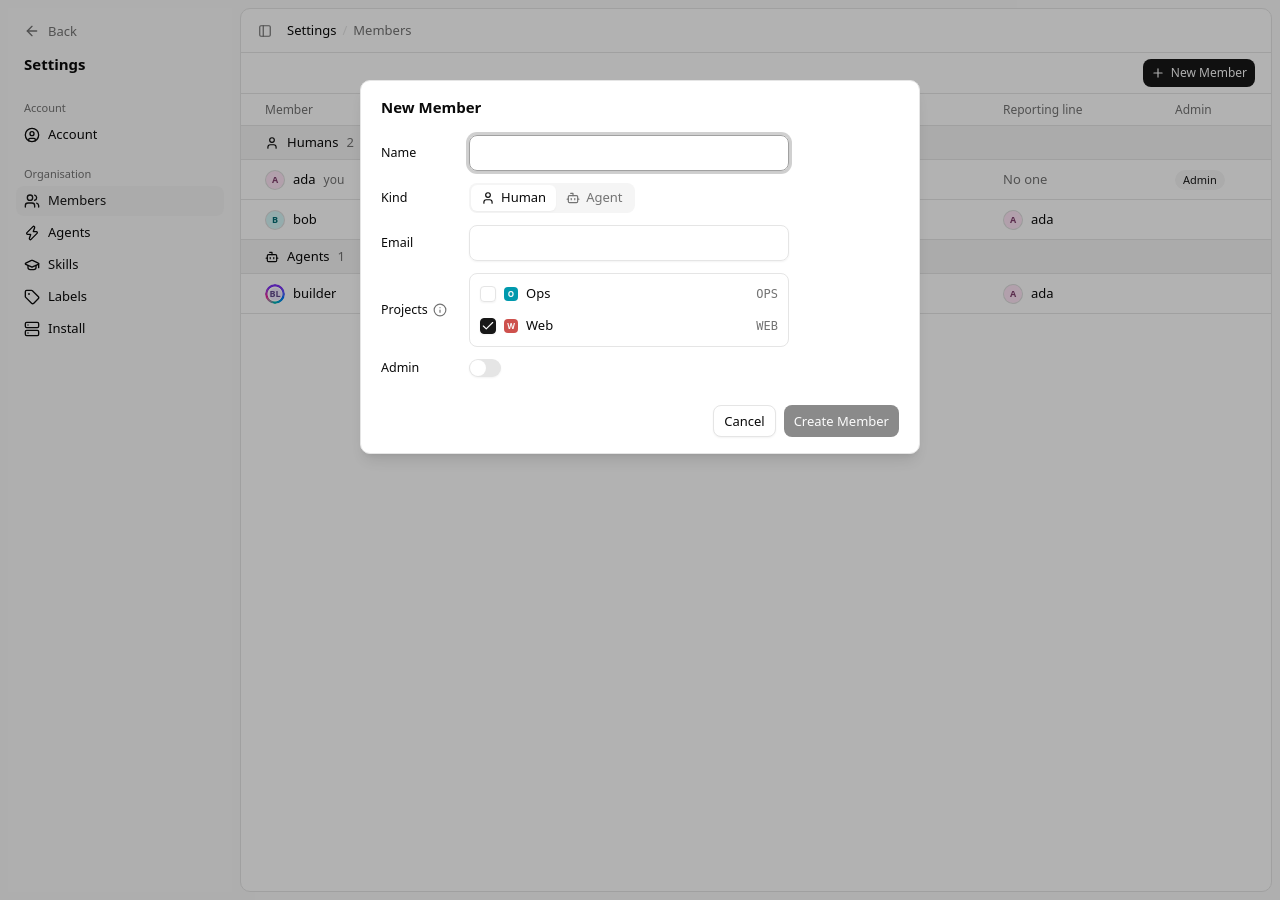
Test: Settings › Members › New Member makes a human in the Projects ticked, then offers a sign-in link
Expected: the checkbox named "Web" is checked, [480,318,496,334]
Click the checkbox named "Ops" at {"x": 488, "y": 294}, box [480,286,496,302]
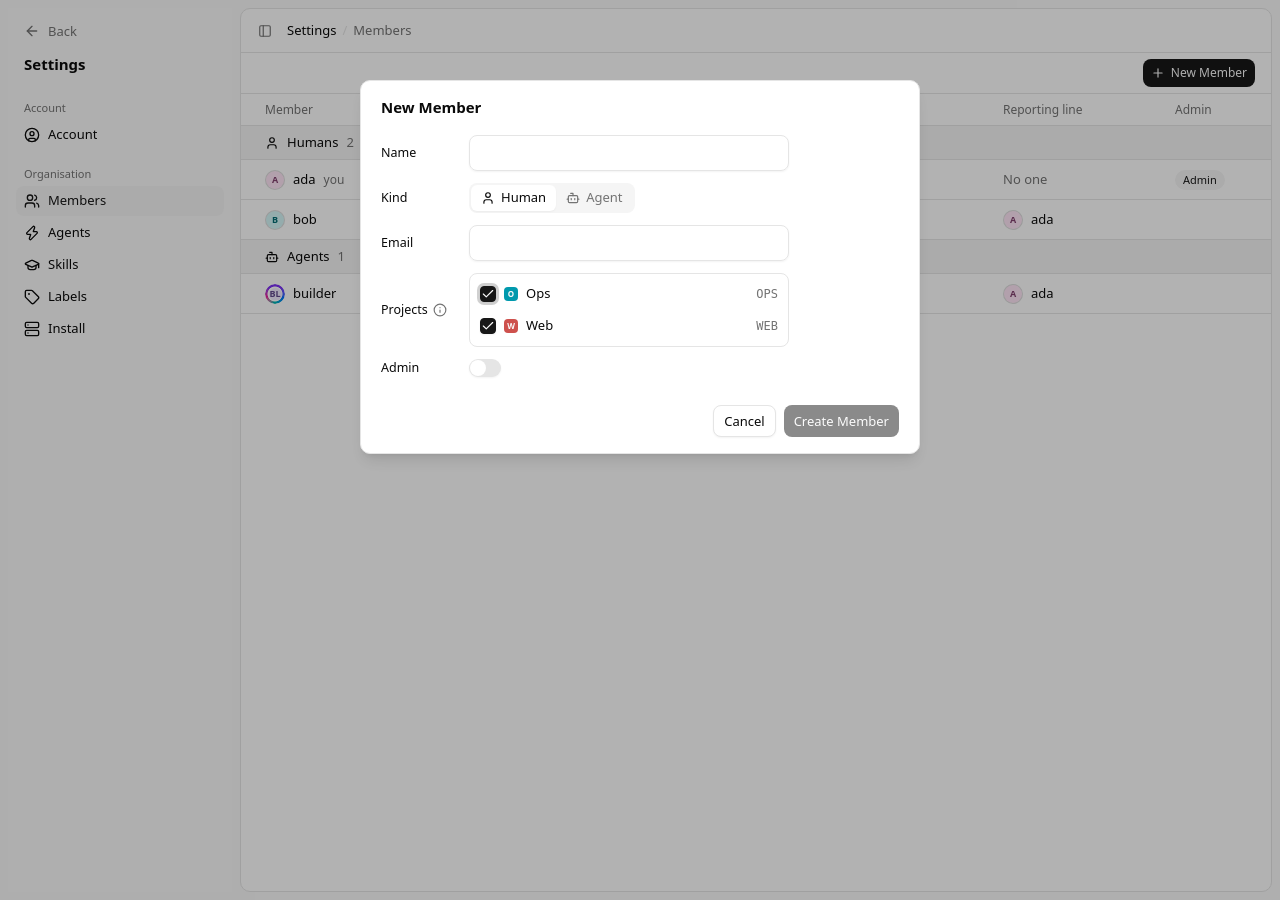
Type "cy" into the field labelled "Name" at {"x": 629, "y": 153}, box [469,135,789,171]
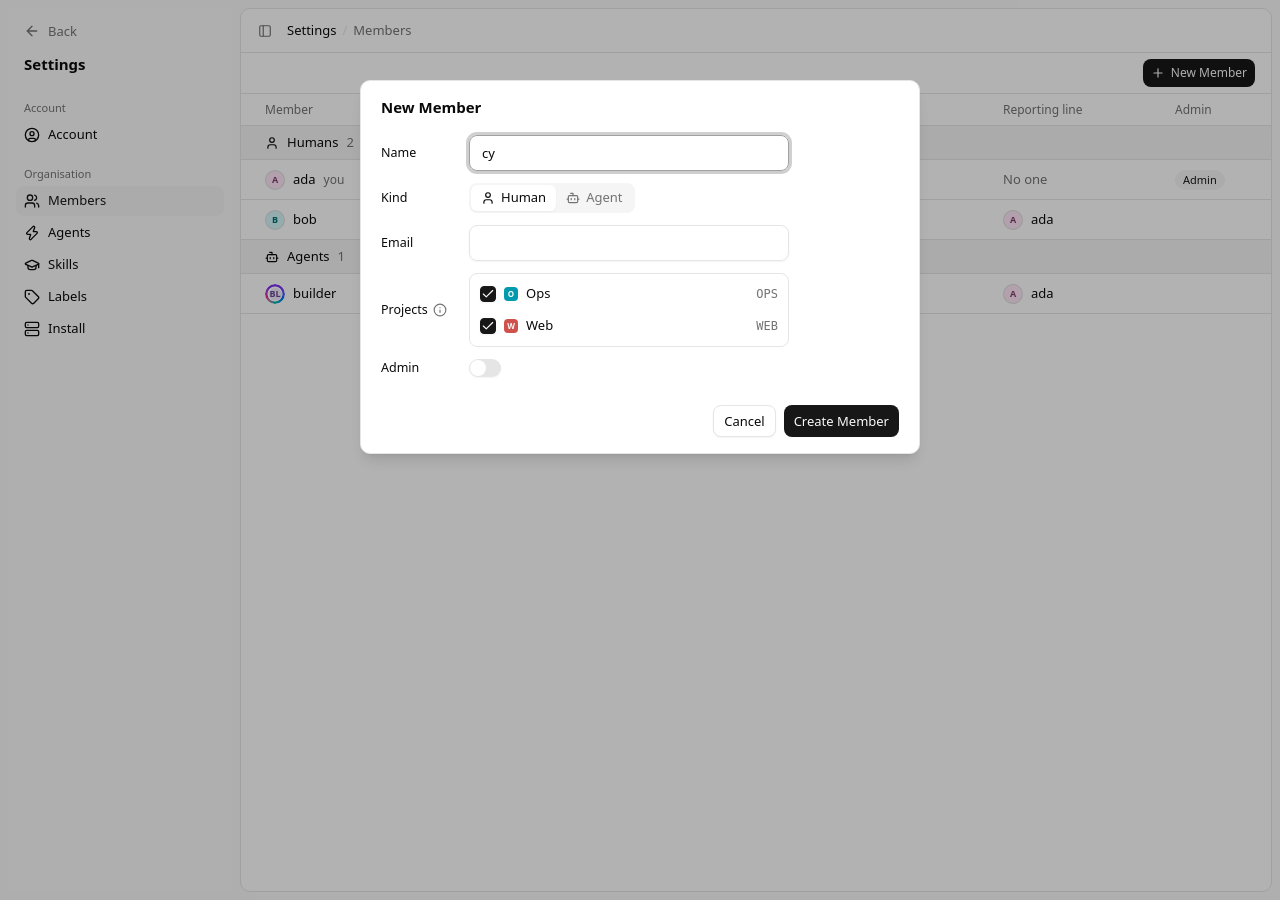
Type "cy@example.com" into the field labelled "Email" at {"x": 629, "y": 243}, box [469,225,789,261]
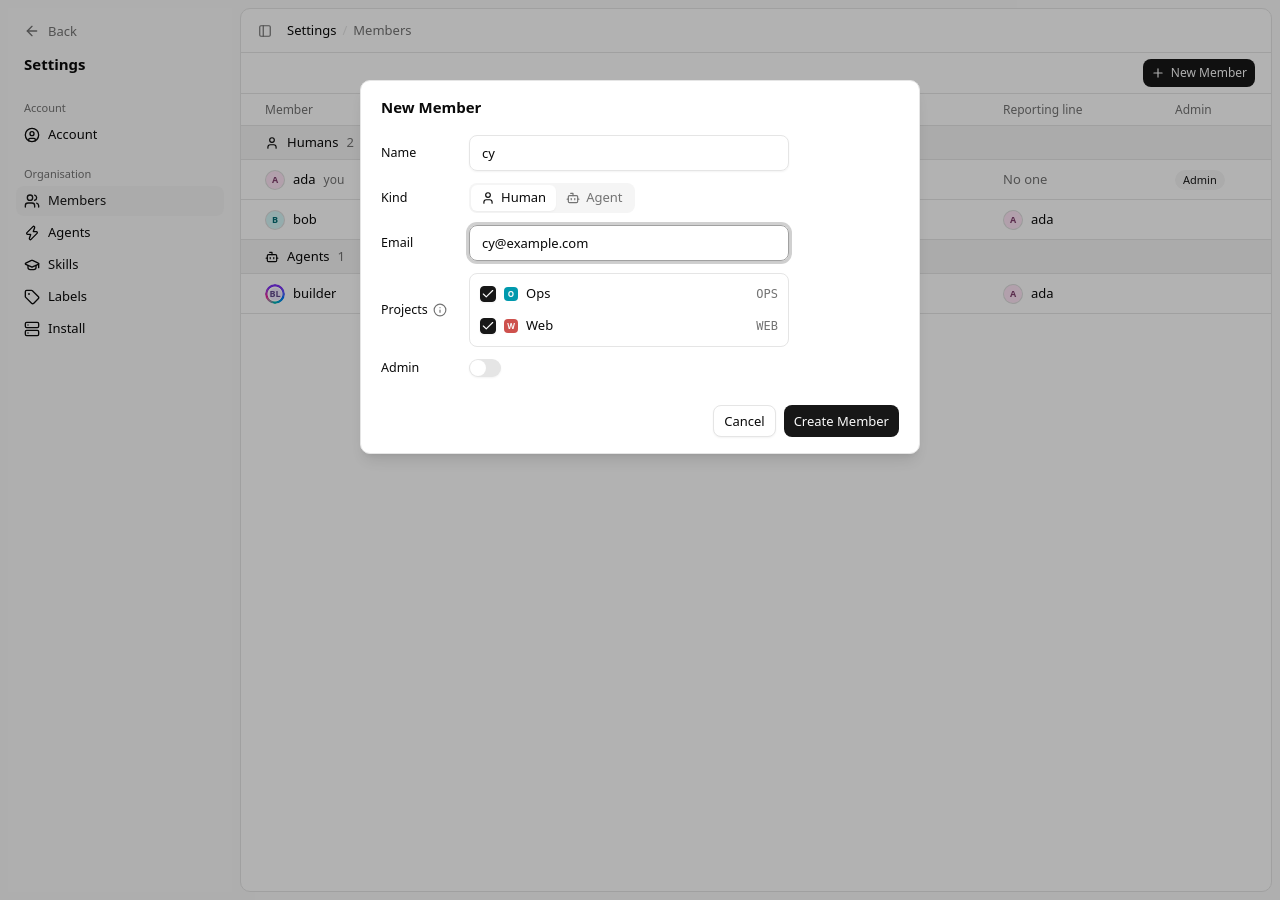
Click the button "Create Member" at {"x": 841, "y": 421}, box [784,405,899,437]
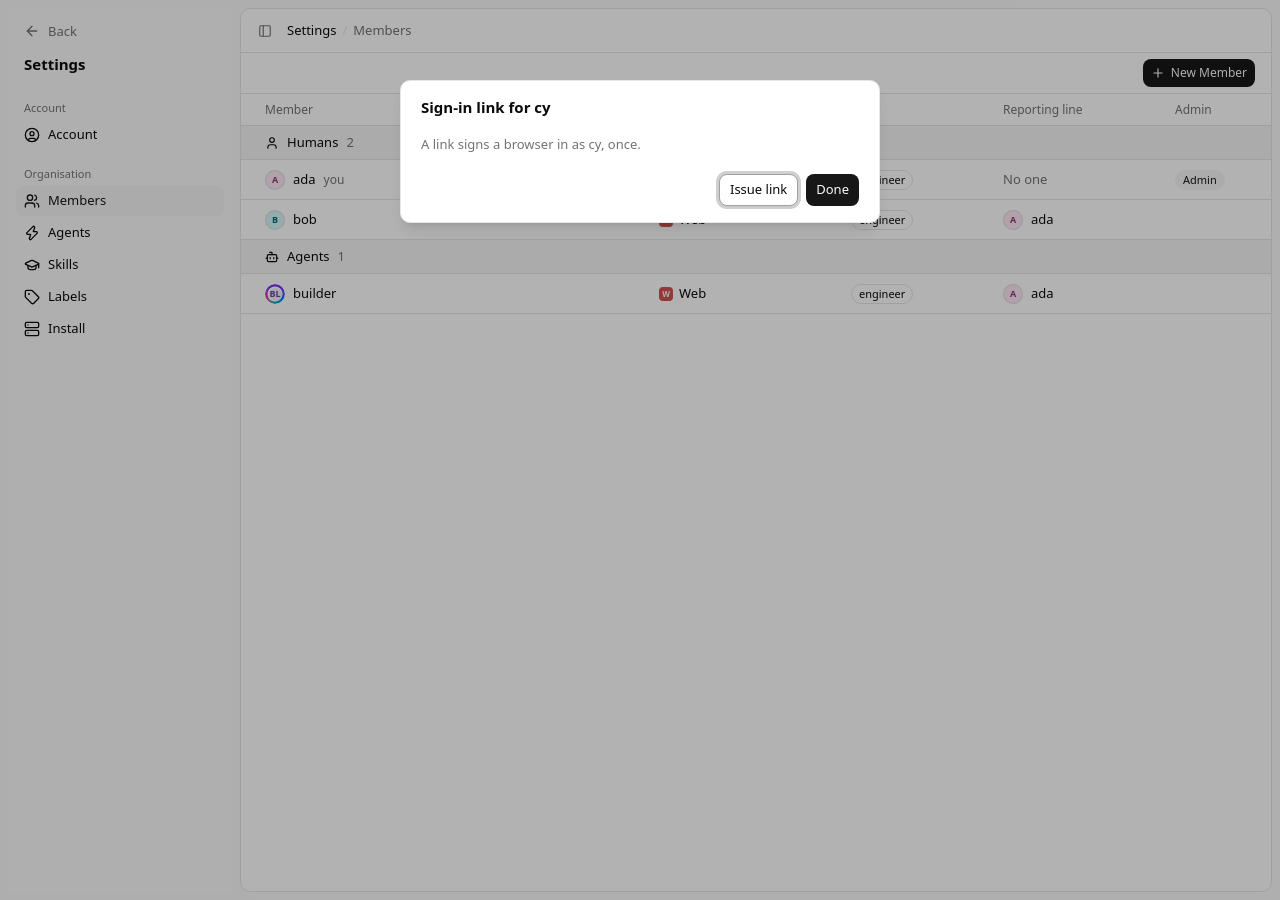
Click the button "Issue link" at {"x": 759, "y": 190}, box [719,174,798,206]
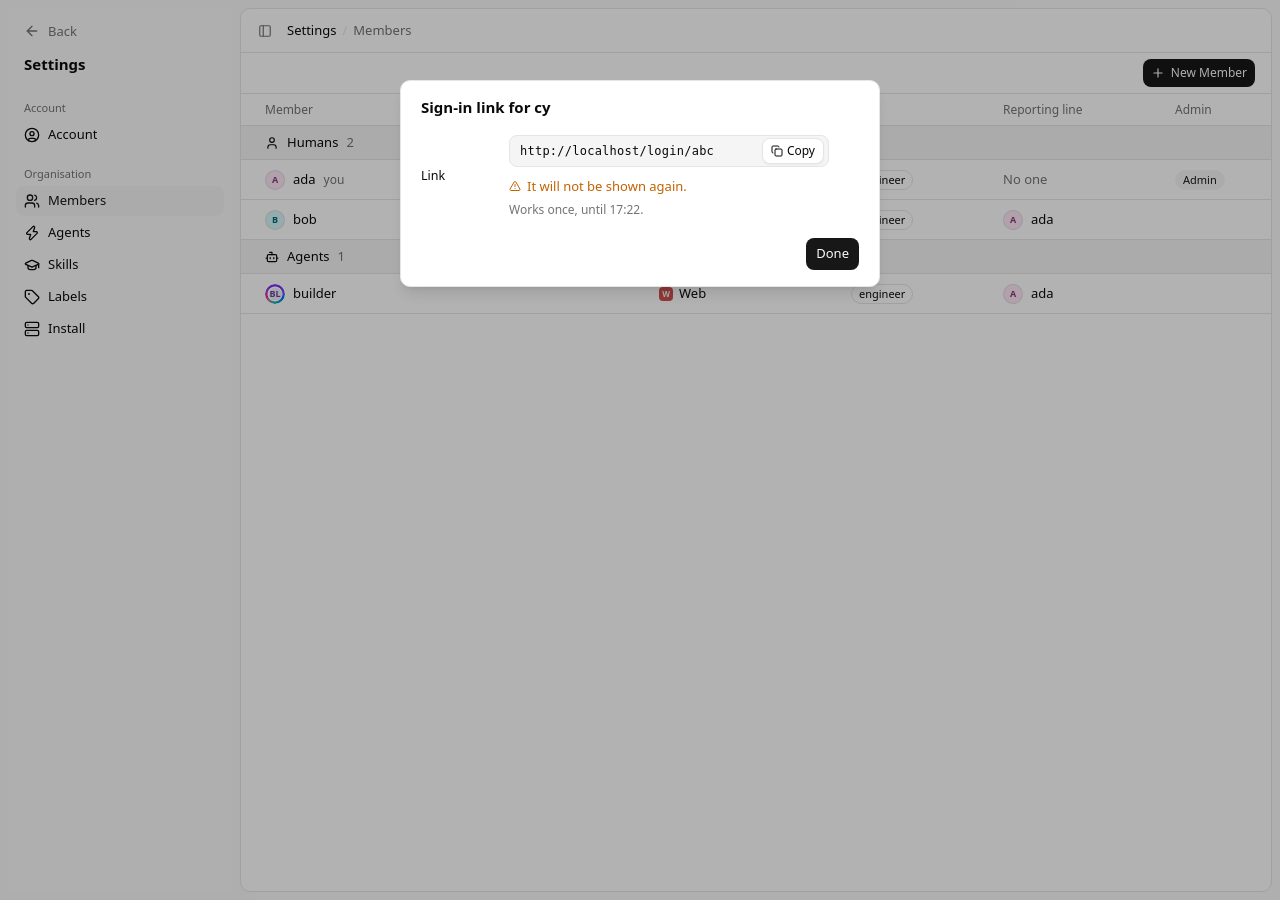
Expected: the field named "Sign-in link" holds "http://localhost/login/abc", [520,143,754,159]
